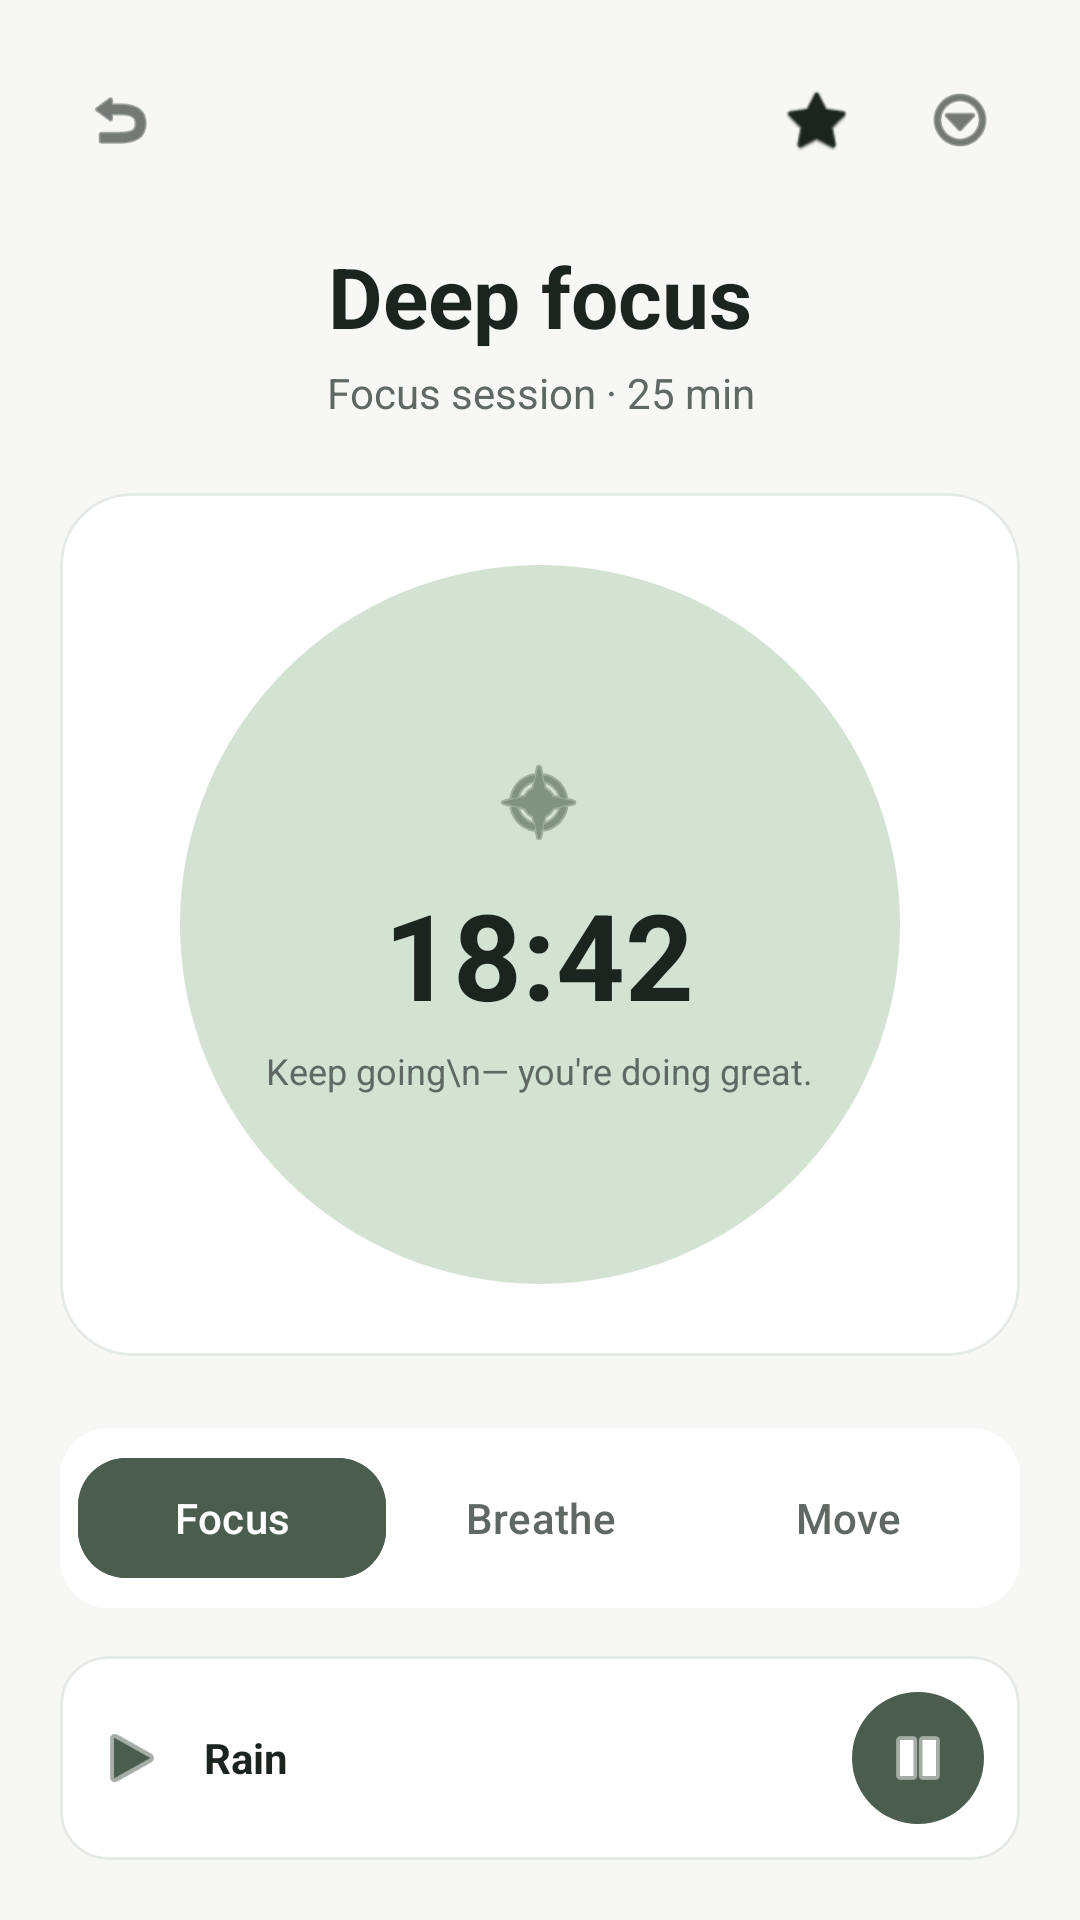

Icon click points for this 1080w x 1920h phone screenshot, format (x,y):
Back: (121,120)
Favorite: (817,120)
More: (960,120)
Play/Pause: (918,1758)
